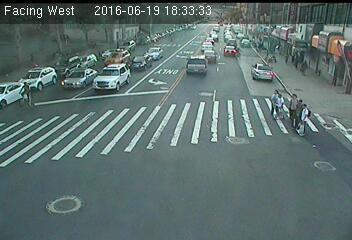neg: (9, 76, 36, 112), (313, 111, 332, 137), (310, 61, 329, 86), (108, 66, 125, 90), (142, 28, 156, 47), (225, 26, 239, 45), (263, 49, 276, 66), (259, 27, 271, 42), (280, 64, 291, 78), (80, 60, 90, 73), (248, 39, 257, 51)
pos: (279, 91, 306, 127), (292, 102, 318, 137), (288, 98, 311, 129), (263, 88, 286, 119), (269, 93, 289, 120), (297, 57, 314, 79)
